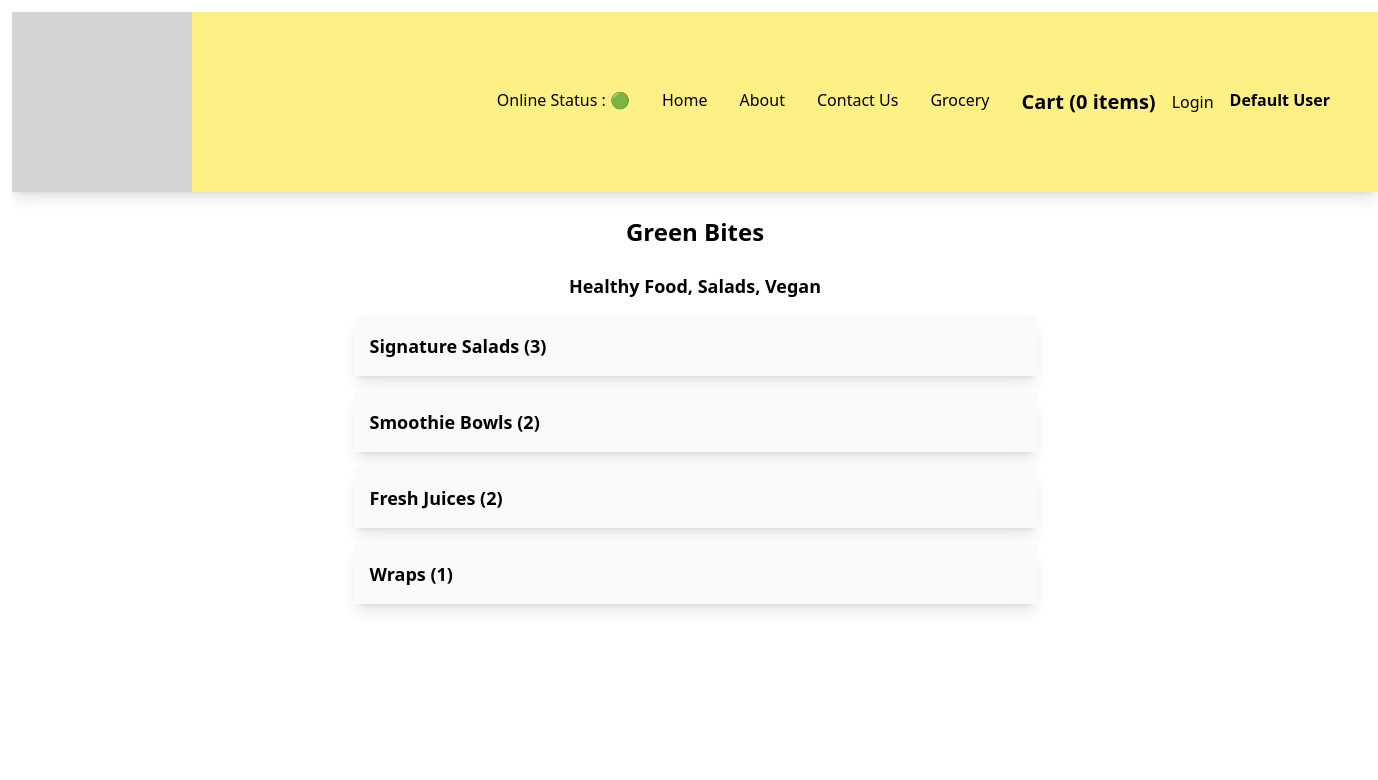
Test: This is test case for the cart functionality › should load the restaurant menu component
Click the text "Signature Salads (3)" at {"x": 458, "y": 346}, box [370,332,546,360]
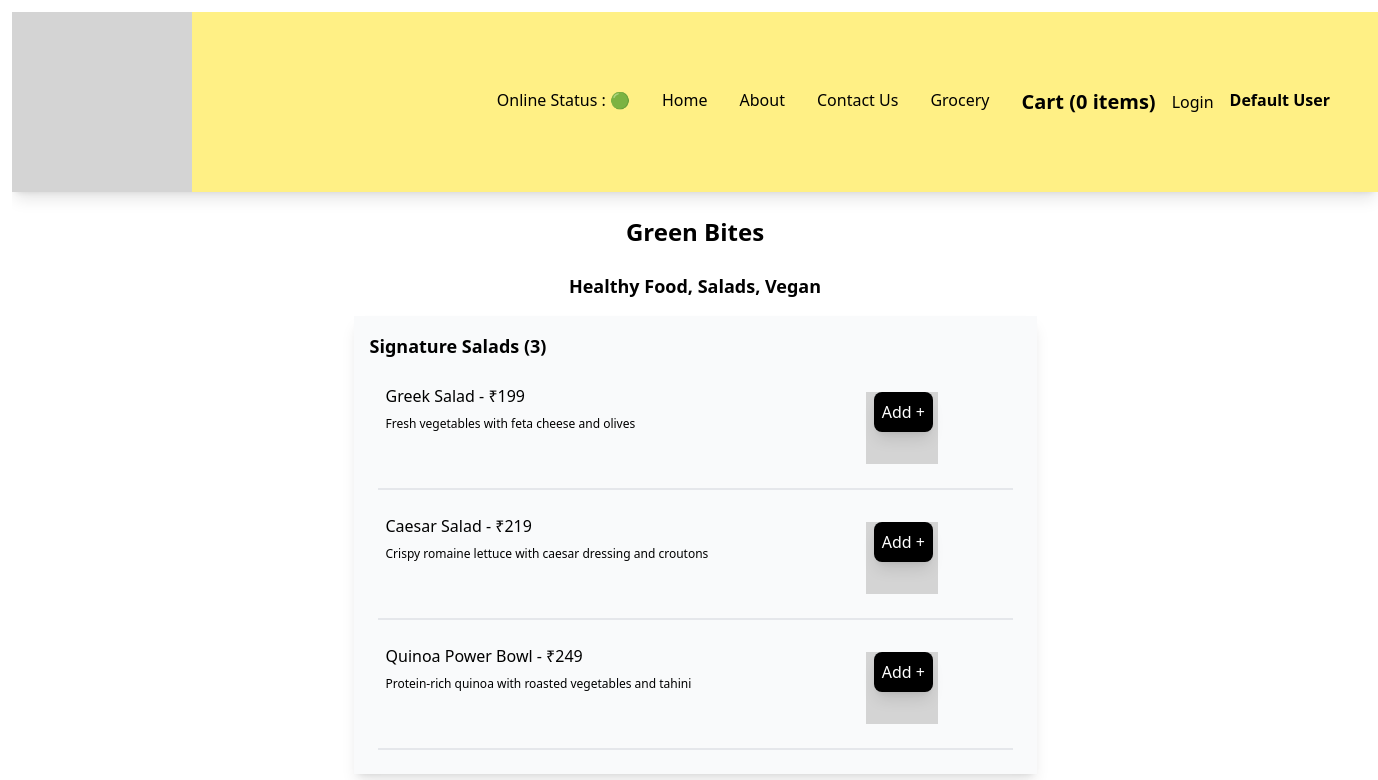
Expected: the number of elements with test id "fooditems" is 3, [378,368,1012,490]; [378,498,1012,620]; [378,628,1012,750]
Click the button "Add +" in the row of "199" at {"x": 903, "y": 412}, box [874,392,933,432]
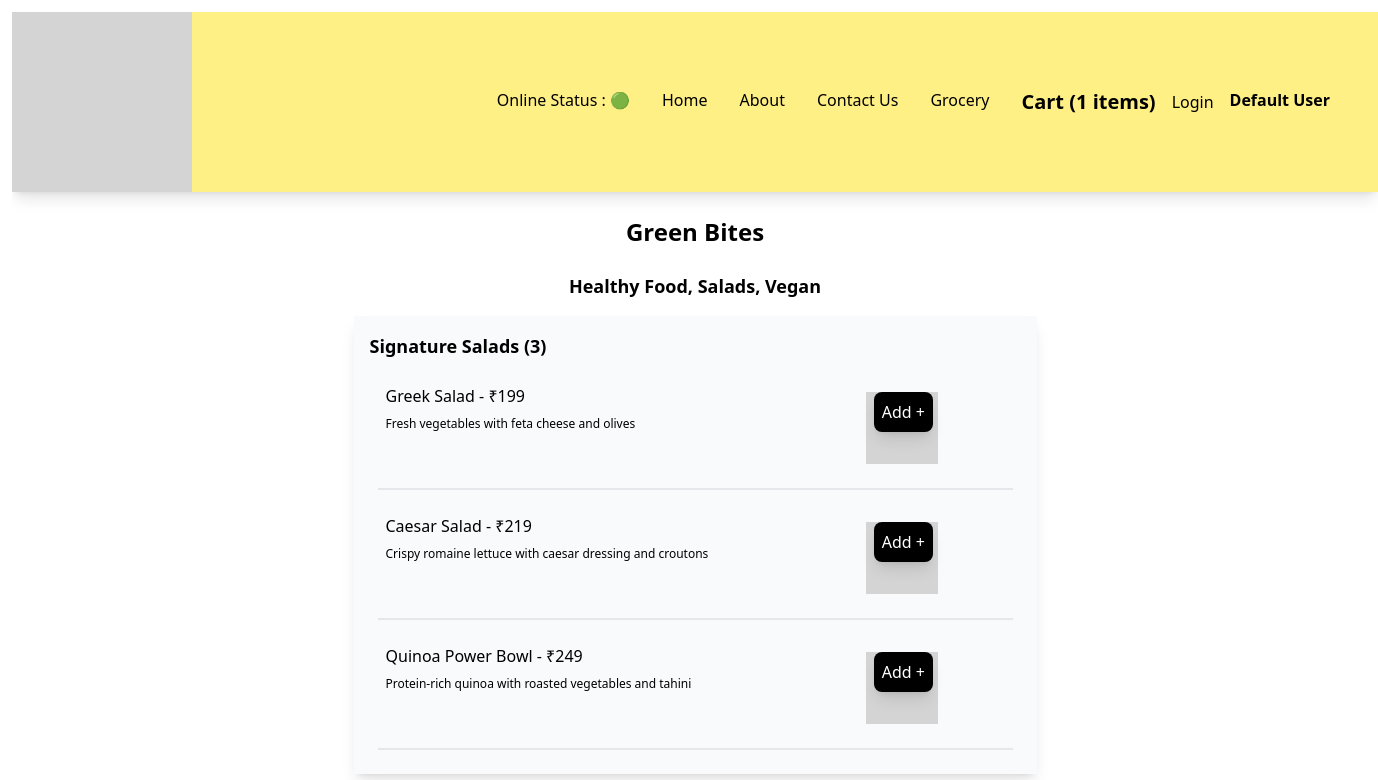
Expected: the link "Cart (1 items)" is shown, [1022,88,1156,115]
